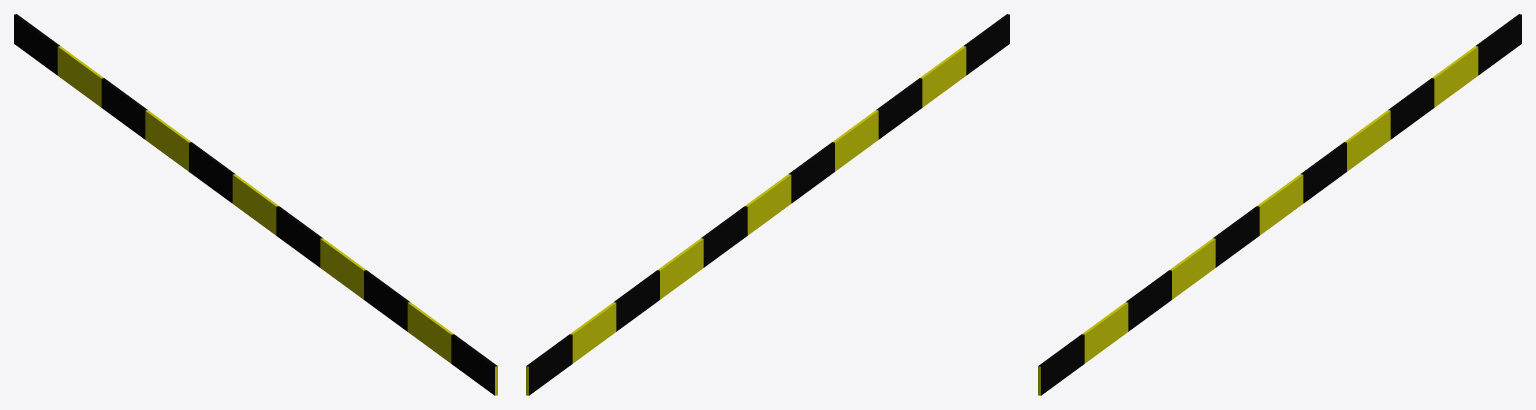
The model's file is serit.fbx.
The picture shows the model from 3 angles, left to right: view 1: azimuth 30°, elevation 25°; view 2: azimuth 150°, elevation 25°; view 3: azimuth 330°, elevation 25°; orthographic projection.
Parts seen in each view (by area): view 1: Plane; view 2: Plane; view 3: Plane.
Boxes of the visible parts, x1=… form: Plane: x1=14, y1=14, x2=497, y2=395; Plane: x1=526, y1=14, x2=1009, y2=395; Plane: x1=1038, y1=14, x2=1521, y2=395.
Size of the model in its own units: 2.54 by 25.7 by 768.
